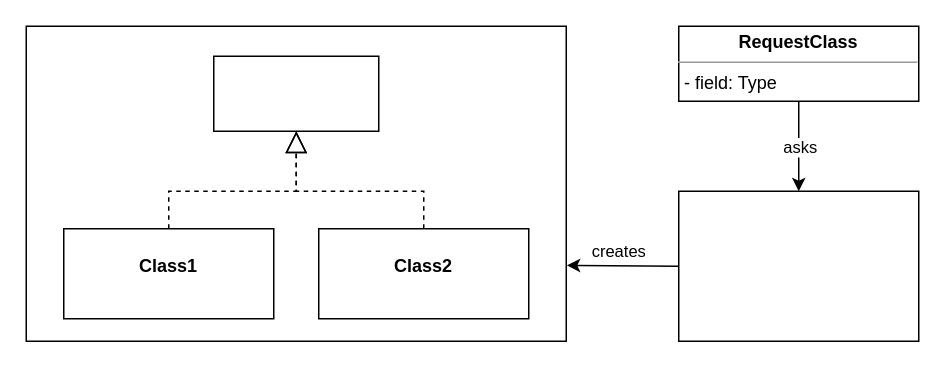
Image size: 945x368. Some labels were removed from this diagram. Here are the shapes that lost their labels. From the top down, the centre of each, then its label:
At pixel 295 93: "«interface» Type".
At pixel 798 265: "Class + getRandom(): Type".
